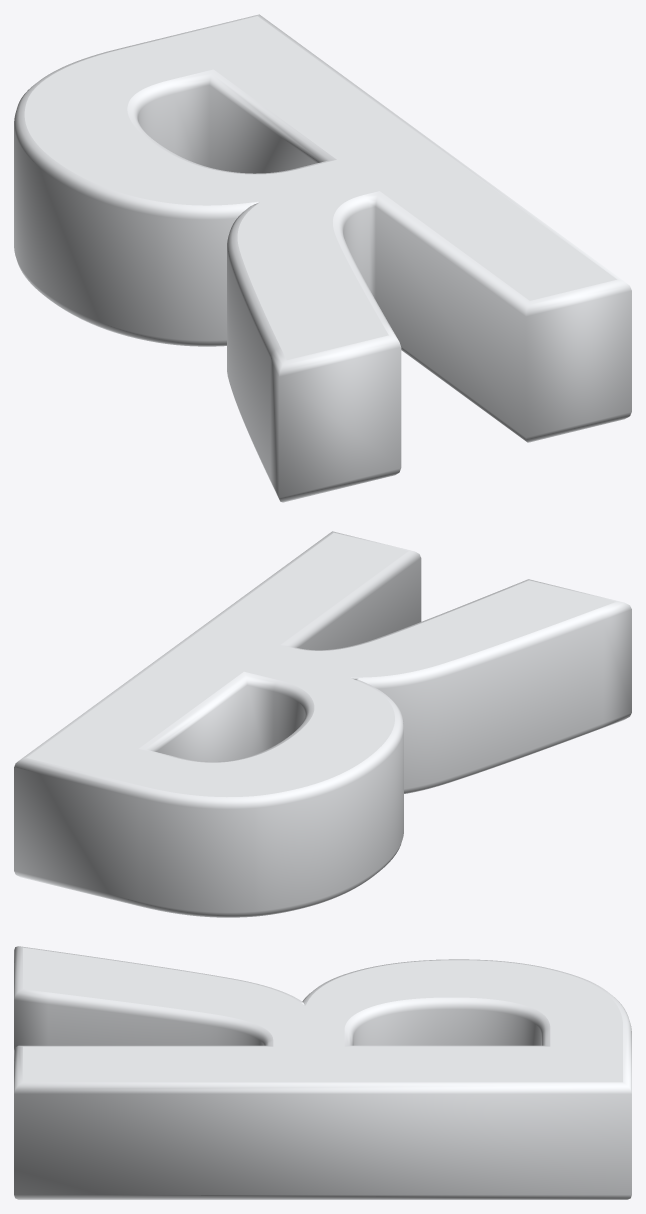
The model's file is goal_clear_letter_08.obj.
The picture shows the model from 3 angles, top to bottom: view 1: azimuth 30°, elevation 25°; view 2: azimuth 150°, elevation 25°; view 3: azimuth 270°, elevation 25°; orthographic projection. The views are drawn at different scales.
Parts seen in each view (by area): view 1: goal_clear_letter_08; view 2: goal_clear_letter_08; view 3: goal_clear_letter_08.
Boxes of the visible parts, x1=… form: goal_clear_letter_08: x1=14, y1=14, x2=631, y2=502; goal_clear_letter_08: x1=14, y1=531, x2=631, y2=917; goal_clear_letter_08: x1=14, y1=946, x2=631, y2=1199.
Bounding box in the file's own units: 0.7254 × 0.2754 × 1.32.
1 material, 1 textured.
